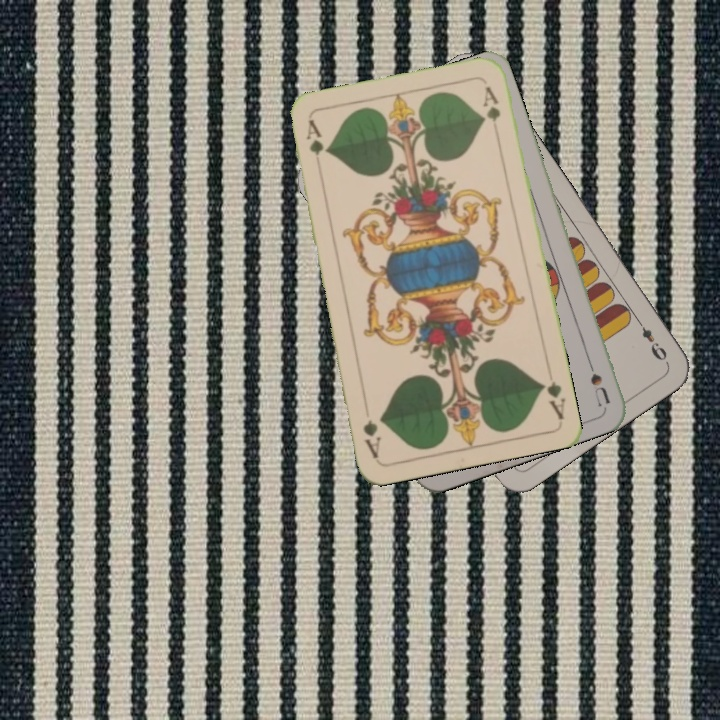E9: (632, 314, 671, 366)
GA: (536, 376, 568, 422), (302, 116, 326, 176)
SU: (581, 349, 612, 408)
